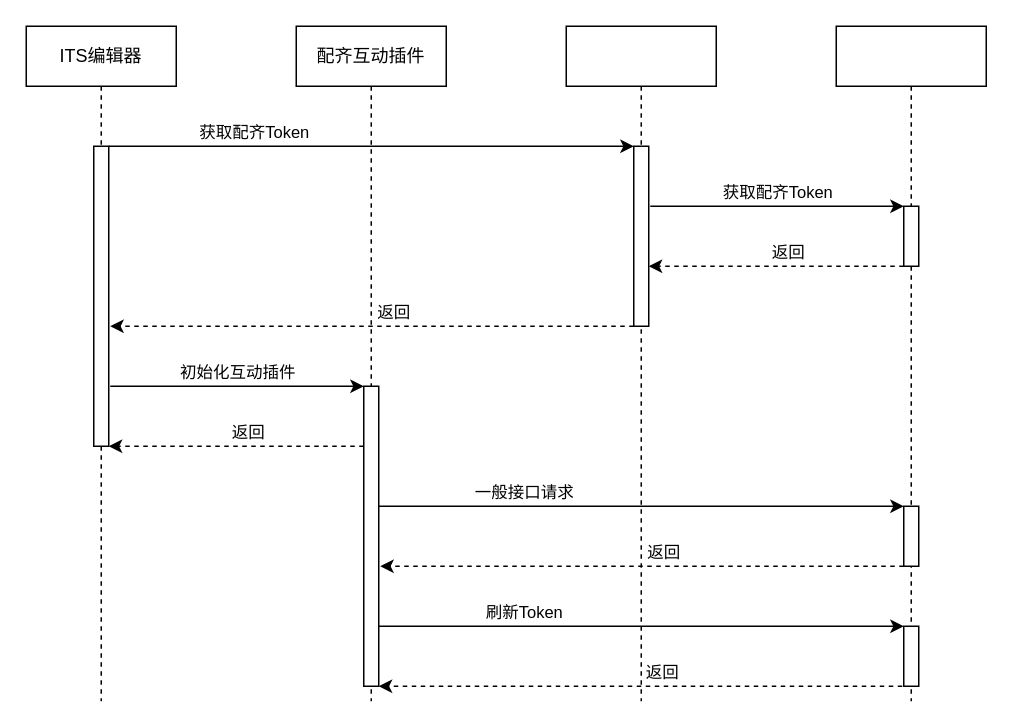
This 1013x728 diagram has some shape labels left out. Here are the shapes that lost their labels. From the top down, the box of each, then its label:
(565, 25, 716, 701): ITS后端
(835, 25, 986, 701): 配齐后端
